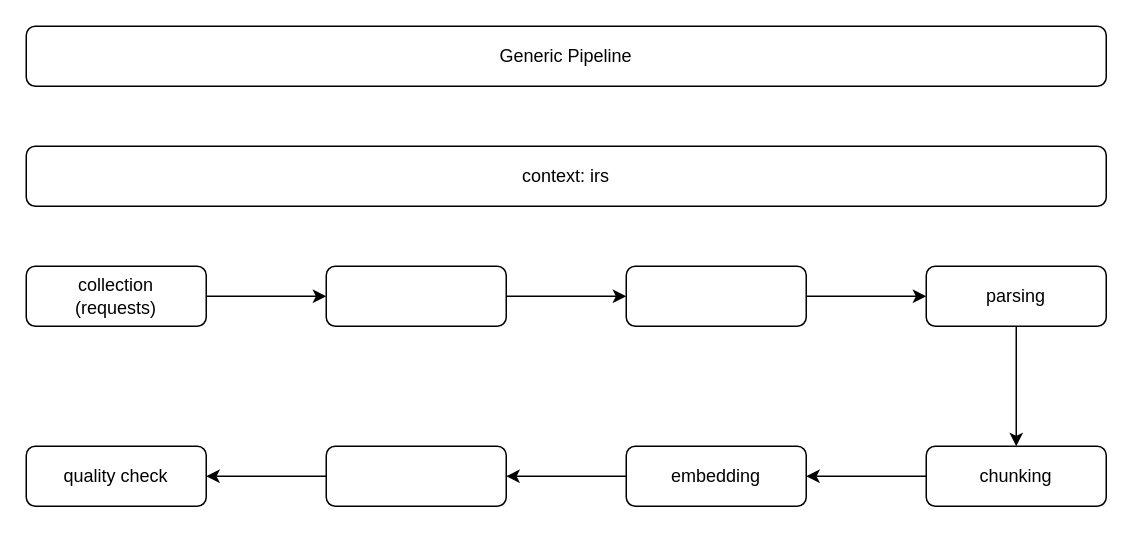
This 1133x533 diagram has some shape labels left out. The box of each missing label's shape, as (x1, y1, x2, y2) in pixels:
cleanup (beautifulsoup): (325, 265, 506, 326)
extraction: (625, 265, 806, 326)
save: (325, 445, 506, 506)
